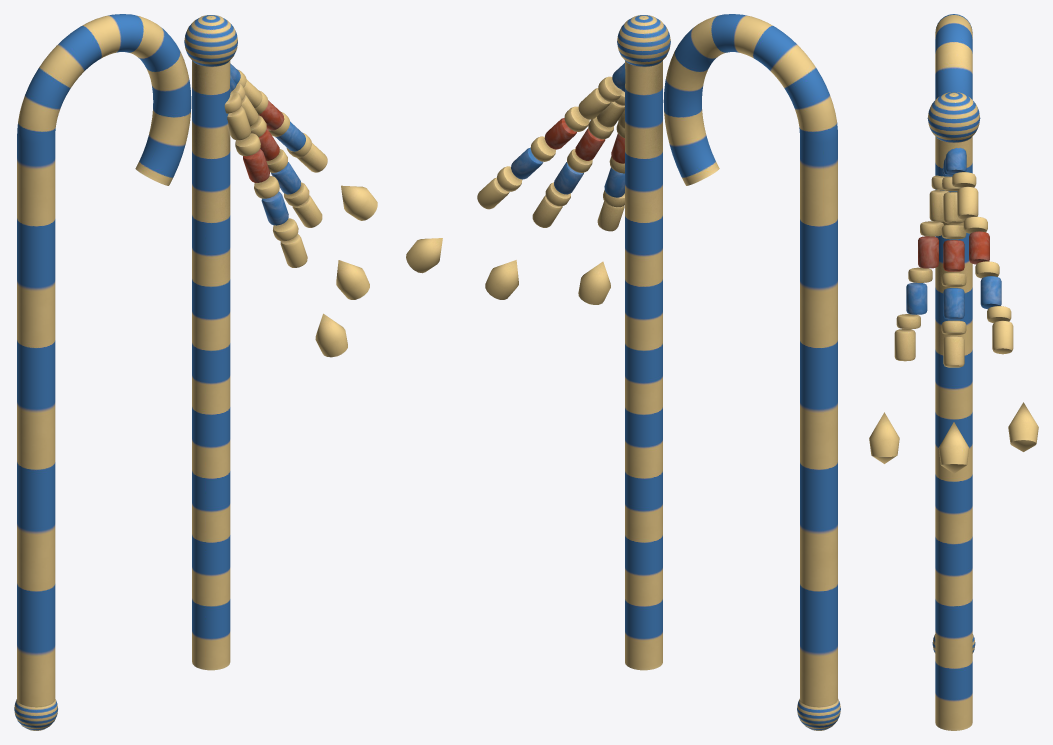
File: crook_and_flail.glb
3 views of the same model, side by side, from view 1: azimuth 30°, elevation 25°; view 2: azimuth 150°, elevation 25°; view 3: azimuth 270°, elevation 25° (orthographic). The views are drawn at different scales.
Visible parts, largest first — view 1: crook_and_flail; view 2: crook_and_flail; view 3: crook_and_flail.
Boxes of the visible parts, box(x1,y1,x2,y2) form: crook_and_flail: box(14, 14, 377, 730); crook_and_flail: box(406, 14, 840, 730); crook_and_flail: box(869, 14, 1038, 730).
Bounding box in the file's own units: 0.2027 × 0.3409 × 0.0775.
1 material, 1 textured.
